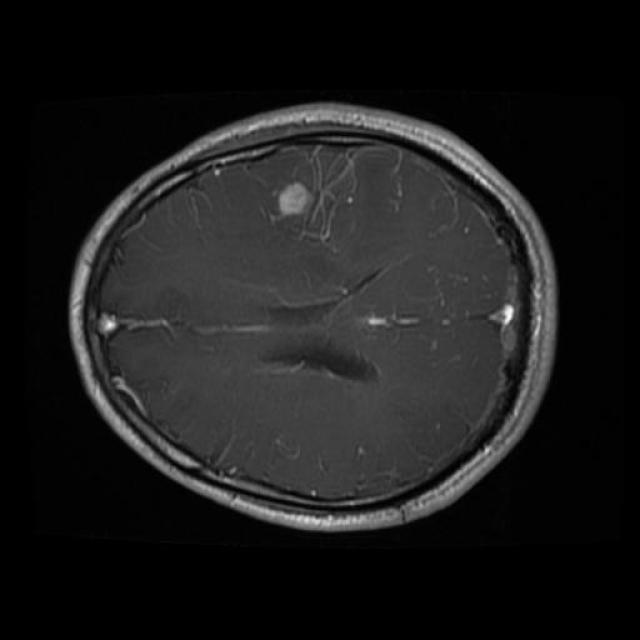Glioma: (278, 182, 312, 216)
